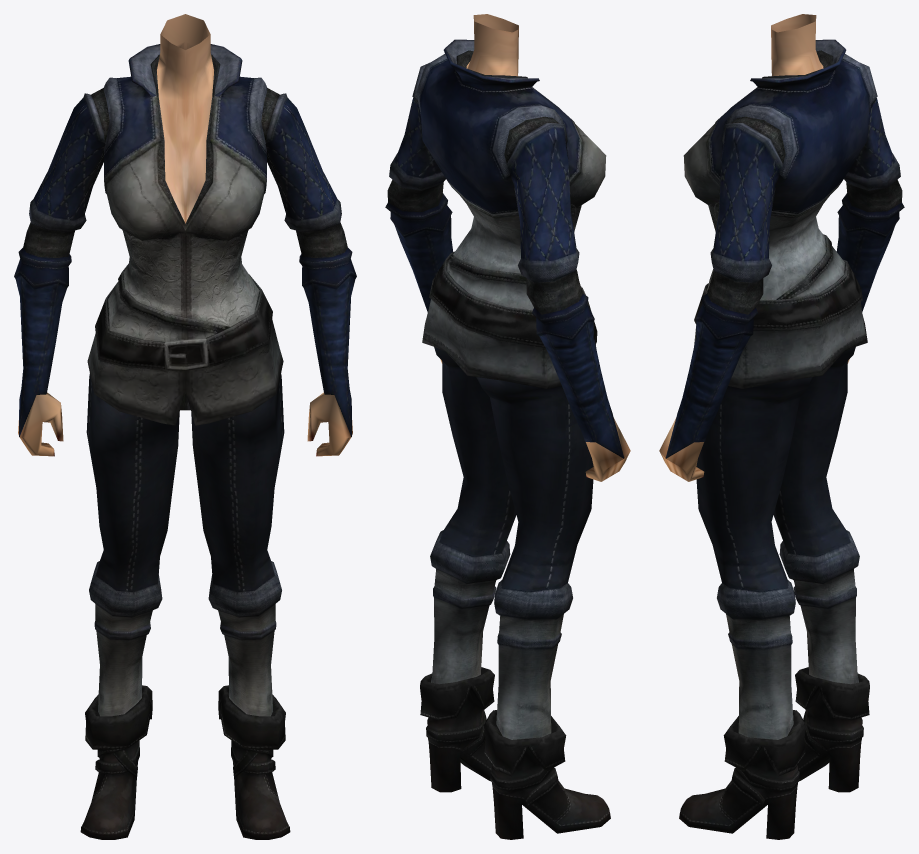
The model's file is KOSA_TRISS_BLUE.glb.
The picture shows the model from 3 angles, left to right: view 1: azimuth 30°, elevation 25°; view 2: azimuth 150°, elevation 25°; view 3: azimuth 270°, elevation 25°; orthographic projection.
Visible parts, largest first — view 1: KOSA_TRISS_BLUE; view 2: KOSA_TRISS_BLUE; view 3: KOSA_TRISS_BLUE.
Part boxes in pixels (x1,y1,x2,y2): KOSA_TRISS_BLUE: (14, 14, 356, 839); KOSA_TRISS_BLUE: (385, 14, 630, 839); KOSA_TRISS_BLUE: (659, 14, 904, 839).
Bounding box in the file's own units: 0.623 × 1.67 × 0.4705.
Materials: 2 (2 with a texture image).
